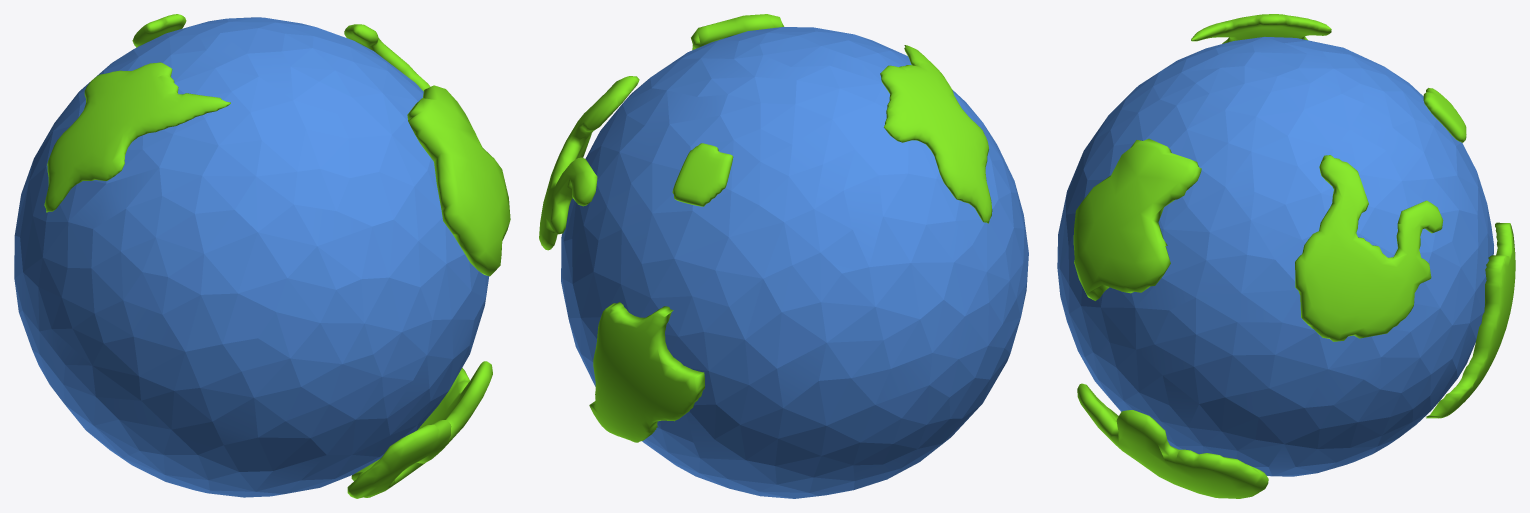
Rendered from World&ContinentsThicker.fbx.
The picture shows the model from 3 angles, left to right: view 1: azimuth 30°, elevation 25°; view 2: azimuth 150°, elevation 25°; view 3: azimuth 270°, elevation 25°; orthographic projection. The views are drawn at different scales.
Parts seen in each view (by area): view 1: World, Continent 6, Continent 1, Continent 3, Continent 2, Continent 5; view 2: World, Continent 4, Continent 6, Continent 2, Continent 5, Continent 1; view 3: World, Continent 2, Continent 1, Continent 3, Continent 4, Continent 6, Continent 5.
Boxes of the visible parts, x1=… form: World: x1=14, y1=17, x2=489, y2=497; Continent 6: x1=44, y1=62, x2=230, y2=212; Continent 1: x1=407, y1=85, x2=510, y2=276; Continent 3: x1=347, y1=361, x2=492, y2=498; Continent 2: x1=344, y1=24, x2=430, y2=91; Continent 5: x1=132, y1=14, x2=186, y2=47; World: x1=561, y1=27, x2=1028, y2=498; Continent 4: x1=589, y1=302, x2=704, y2=442; Continent 6: x1=880, y1=45, x2=992, y2=223; Continent 2: x1=539, y1=76, x2=639, y2=250; Continent 5: x1=672, y1=143, x2=733, y2=206; Continent 1: x1=691, y1=14, x2=784, y2=50; World: x1=1057, y1=37, x2=1493, y2=476; Continent 2: x1=1295, y1=155, x2=1443, y2=341; Continent 1: x1=1073, y1=138, x2=1201, y2=300; Continent 3: x1=1077, y1=383, x2=1268, y2=498; Continent 4: x1=1426, y1=222, x2=1515, y2=418; Continent 6: x1=1191, y1=14, x2=1331, y2=43; Continent 5: x1=1423, y1=88, x2=1466, y2=142.
Size of the model in its own units: 206 by 203 by 210.
